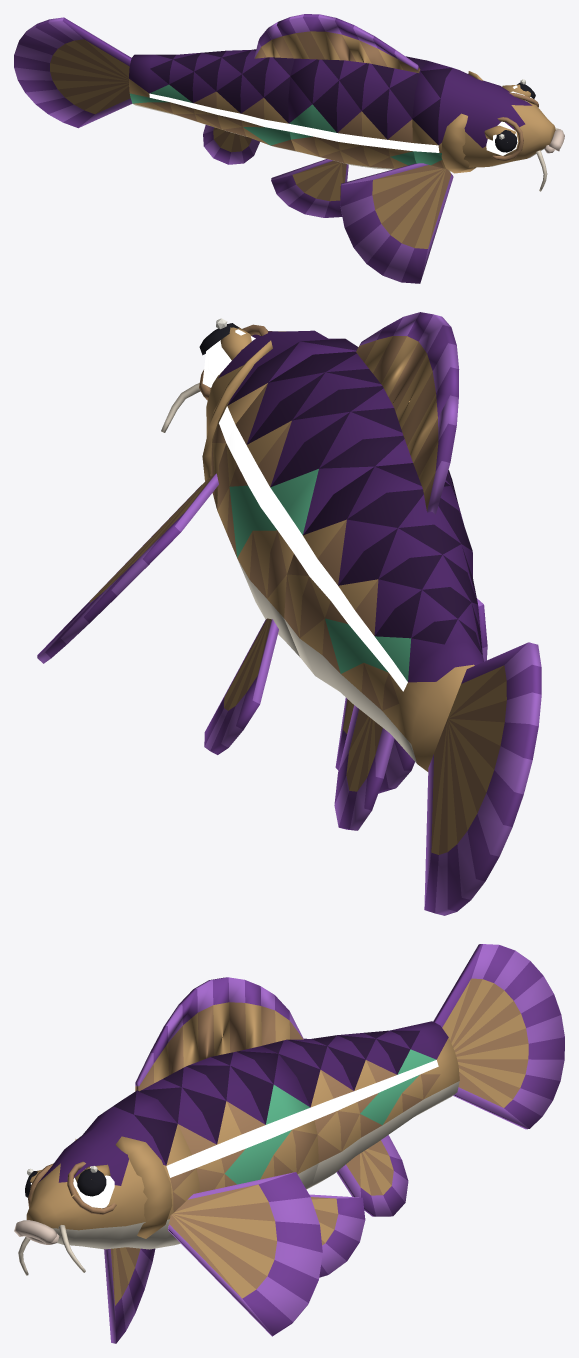
File: carp-doctor-fish.glb
3 renders of one model, top to bottom at view 1: azimuth 30°, elevation 25°; view 2: azimuth 150°, elevation 25°; view 3: azimuth 270°, elevation 25°, orthographic. The views are drawn at different scales.
Parts seen in each view (by area): view 1: wag_body_0, wag_body_1, carp_head, glide_fin_r, wag_body_2, pulse_gill_r, blink_eye_r; view 2: wag_body_1, wag_body_0, wag_body_2, carp_head, glide_fin_l, blink_eye_l, pulse_gill_l; view 3: wag_body_0, wag_body_1, wag_body_2, glide_fin_l, carp_head, glide_fin_r, pulse_gill_l, blink_eye_l.
Part boxes in pixels (box(x1,y1,x2,y2)): wag_body_0: box(271, 14, 426, 217); wag_body_1: box(129, 22, 298, 164); carp_head: box(412, 60, 564, 171); glide_fin_r: box(340, 163, 453, 283); wag_body_2: box(14, 17, 132, 128); pulse_gill_r: box(441, 113, 476, 173); blink_eye_r: box(486, 121, 517, 155); wag_body_1: box(284, 395, 483, 830); wag_body_0: box(204, 312, 463, 793); wag_body_2: box(424, 642, 541, 915); carp_head: box(199, 324, 358, 509); glide_fin_l: box(37, 473, 218, 663); blink_eye_l: box(199, 318, 255, 387); pulse_gill_l: box(202, 340, 272, 481); wag_body_0: box(135, 977, 365, 1277); wag_body_1: box(260, 986, 459, 1216); wag_body_2: box(433, 944, 564, 1129); glide_fin_l: box(168, 1172, 322, 1336); carp_head: box(14, 1091, 199, 1249); glide_fin_r: box(104, 1247, 155, 1343); pulse_gill_l: box(115, 1136, 172, 1238); blink_eye_l: box(73, 1166, 114, 1208).
Bounding box in the file's own units: 0.5781 × 0.3873 × 0.5945.
